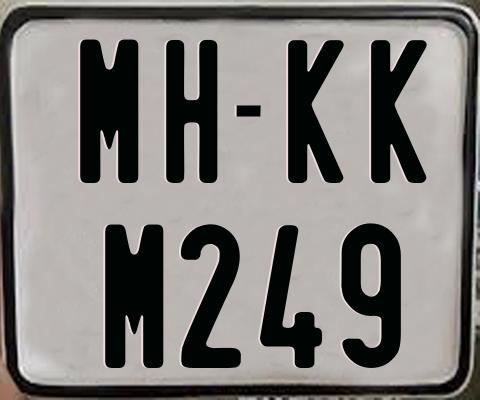2: (181, 224, 243, 372)
4: (258, 224, 326, 369)
9: (338, 223, 399, 373)
H: (166, 38, 219, 182)
K: (285, 40, 343, 189), (371, 38, 427, 181)
M: (104, 222, 168, 372), (77, 38, 138, 184)
